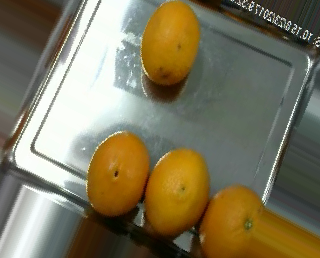Orange: (145, 148, 210, 232), (86, 131, 150, 215), (140, 1, 200, 85)
